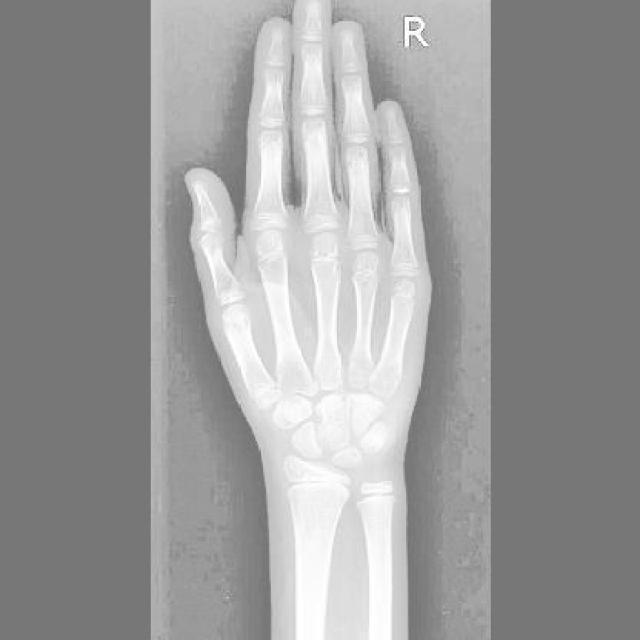Fracture: (315, 397, 348, 423)
